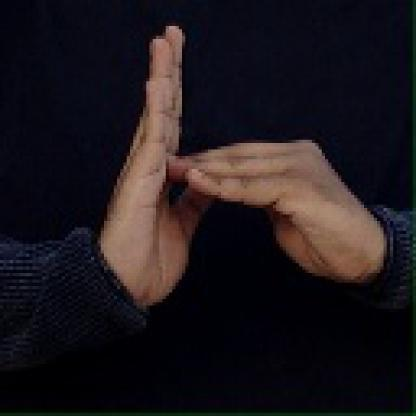Z: (82, 19, 352, 295)
